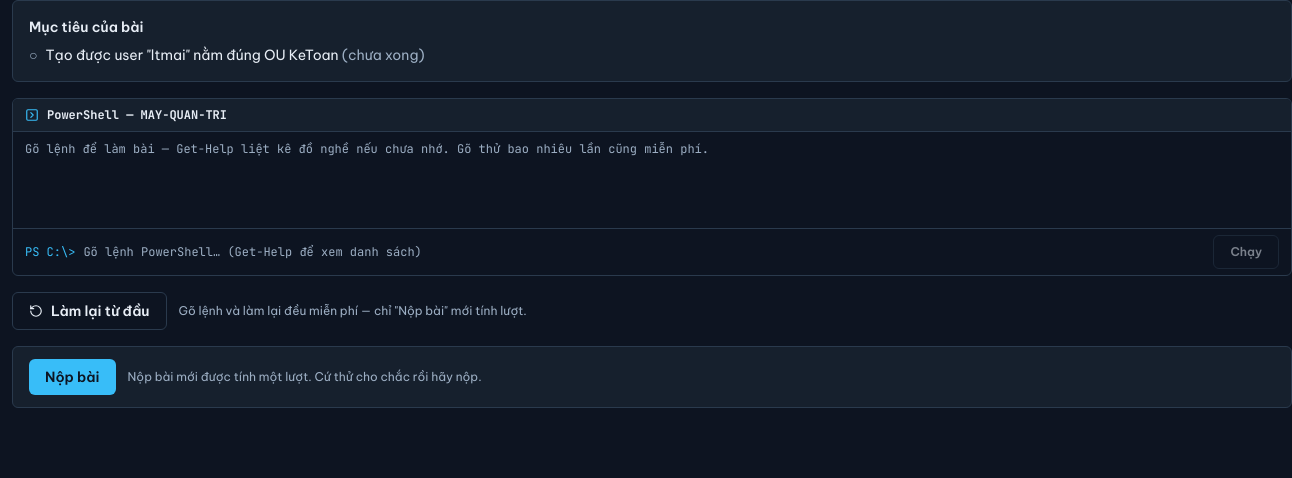
Test: terminal PowerShell › output máy tiếng Anh nguyên văn; lệnh lỗi hiện đúng thông báo lỗi
Type "Get-NetIPAddress" into the field named "Ô gõ lệnh PowerShell" at (644, 252), box [83, 240, 1205, 264]
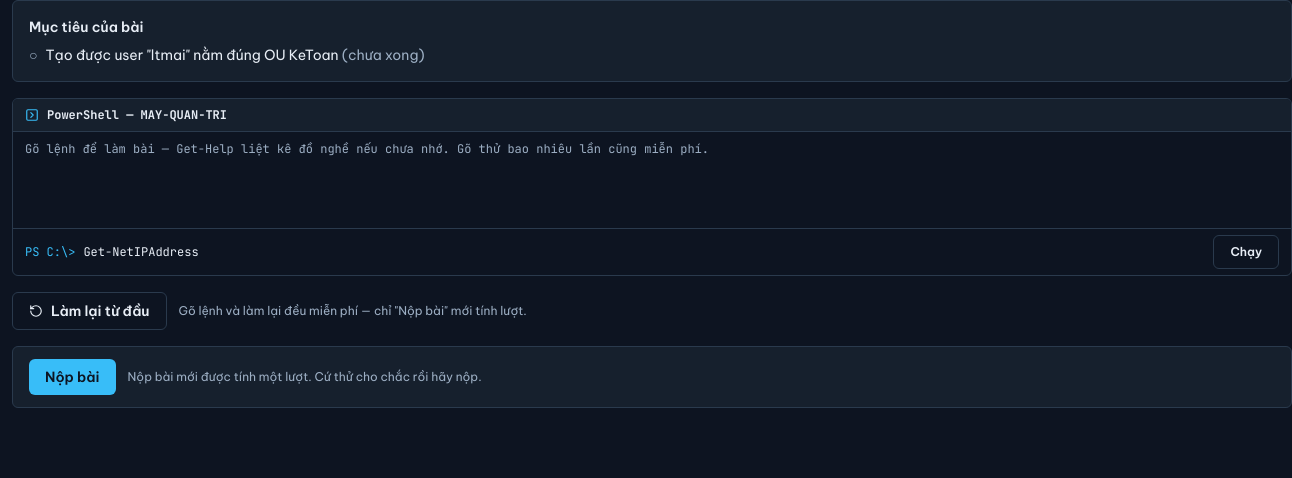
Click the button "Chạy" at (1246, 252), box [1213, 235, 1279, 269]
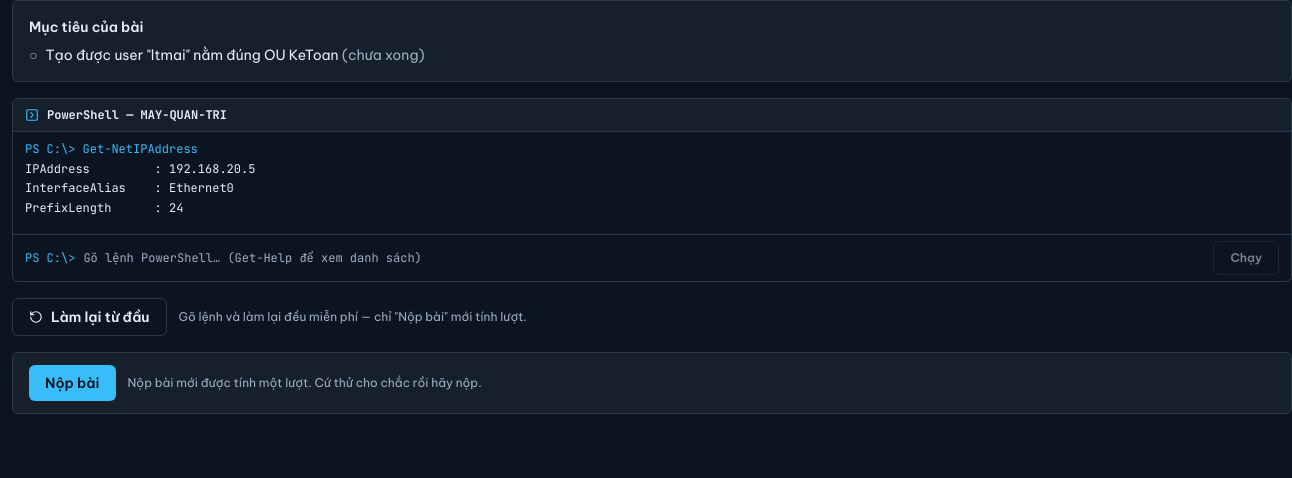
Type "Get-ADUser -Identity khongco" into the field named "Ô gõ lệnh PowerShell" at (644, 258), box [83, 246, 1205, 270]
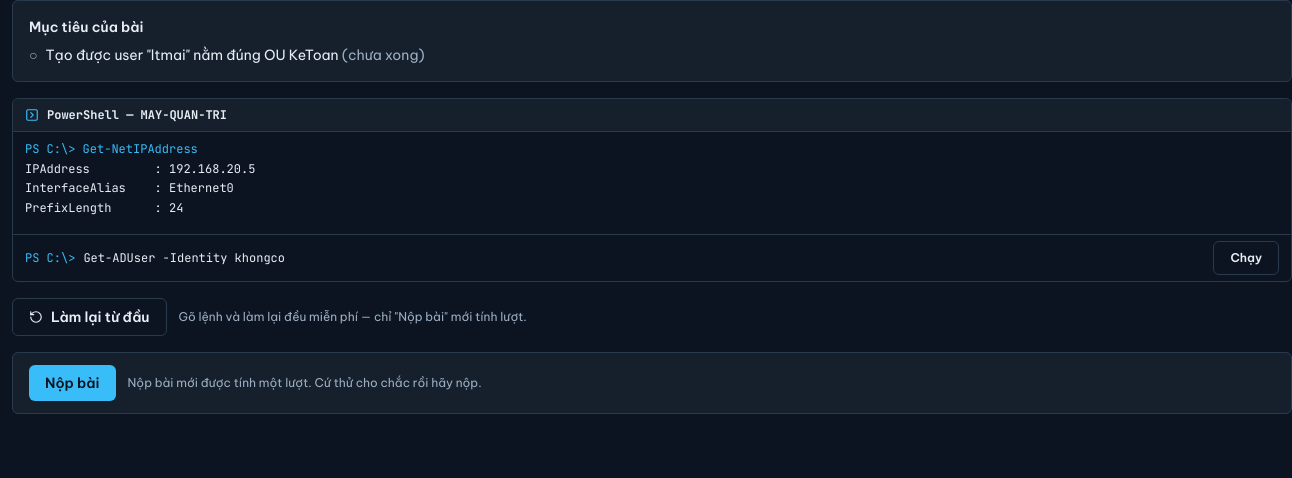
Click the button "Chạy" at (1246, 258), box [1213, 241, 1279, 275]
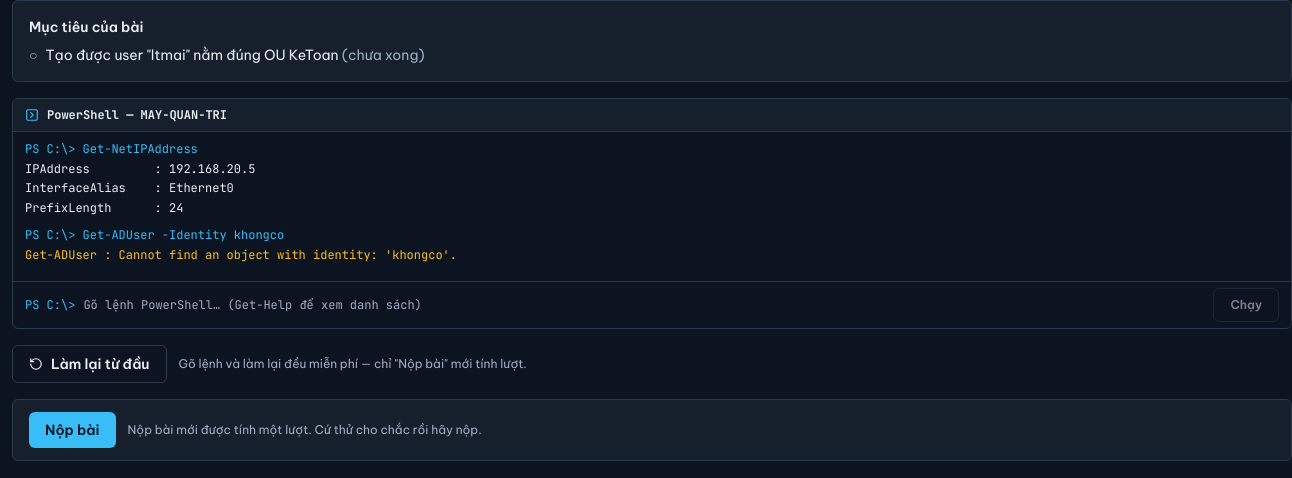
Expected: the text "Get-ADUser : Cannot find an object with identity: 'khongco'." is shown, [25, 246, 457, 262]
